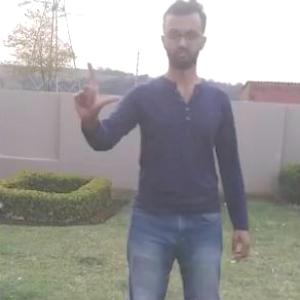land_hand: (69, 58, 122, 122)
